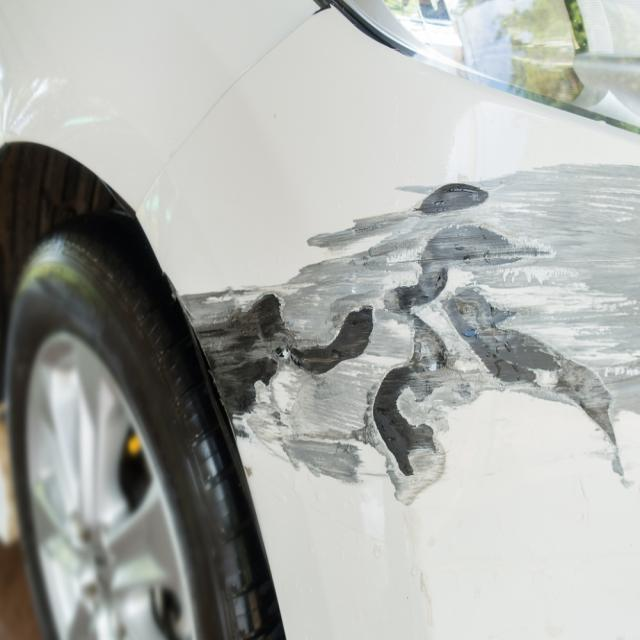scratch: (172, 160, 640, 515)
